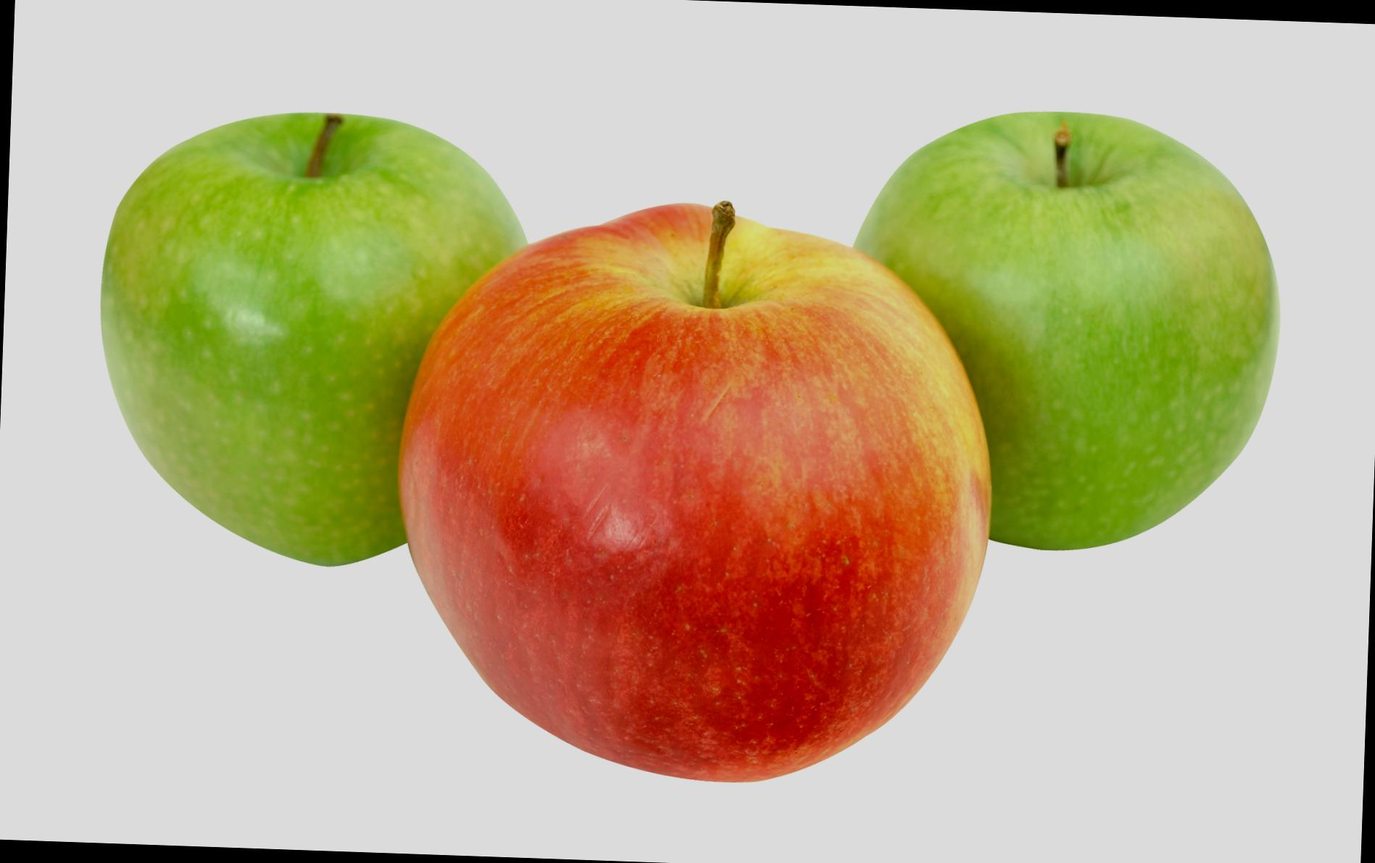Apple Ripe: (401, 167, 1016, 741)
Apple Unripe: (70, 66, 517, 586), (864, 62, 1284, 550)
